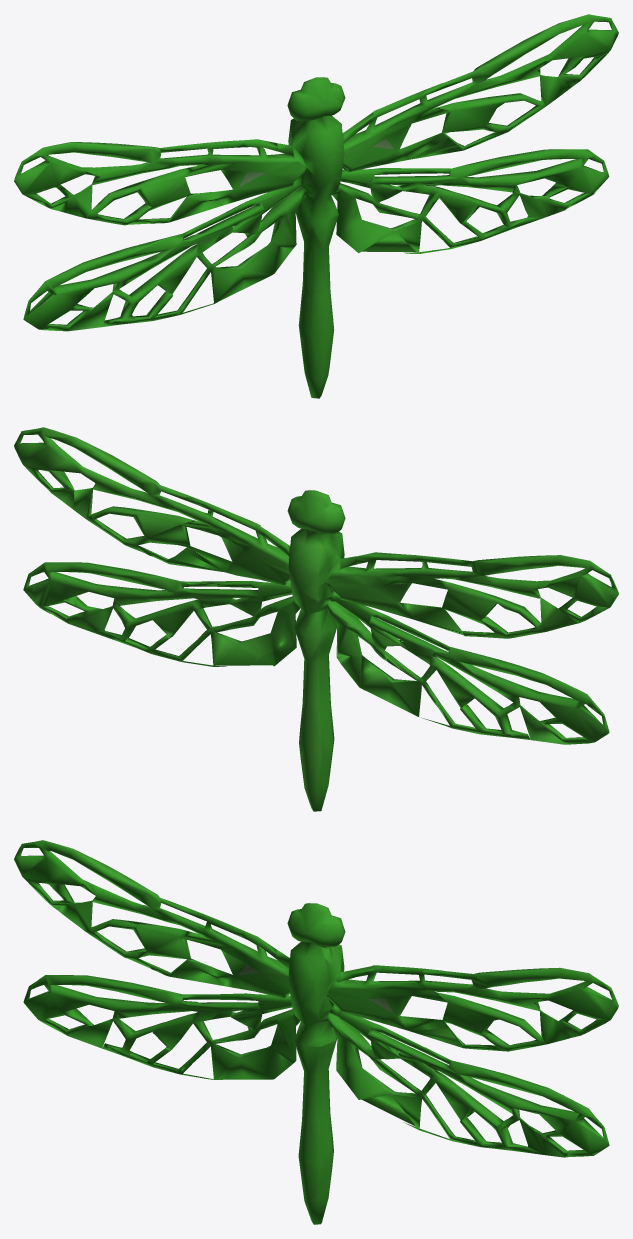
Rendered from Meshy_AI_Emerald_Geometric_Dra_0811081710_texture.glb.
3 renders of one model, top to bottom at view 1: azimuth 30°, elevation 25°; view 2: azimuth 150°, elevation 25°; view 3: azimuth 330°, elevation 25°, orthographic.
Parts seen in each view (by area): view 1: Mesh1.0; view 2: Mesh1.0; view 3: Mesh1.0.
Boxes of the visible parts, <box> form: Mesh1.0: <box>14,14,618,398</box>; Mesh1.0: <box>14,427,618,811</box>; Mesh1.0: <box>14,840,618,1224</box>.
Bounding box in the file's own units: 1.9 × 0.9602 × 0.1701.
Materials: 1 (1 with a texture image).
